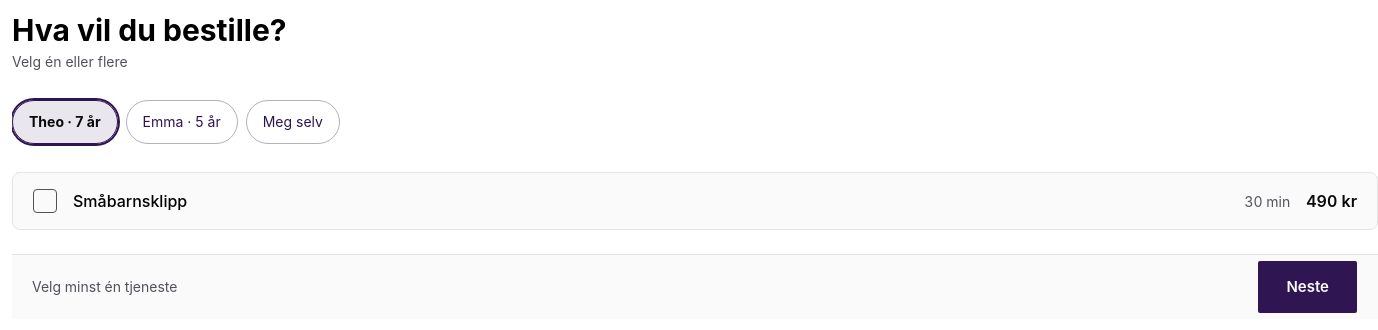
Test: ServiceScreen — multi-select (`selection`) › for a family › keeps every children’s group off a grown-up’s menu
The image size is (1378, 330).
The grown-up's tab (third person).
Click the tab "Meg selv".
click(293, 122)  # box [246,100,340,144]
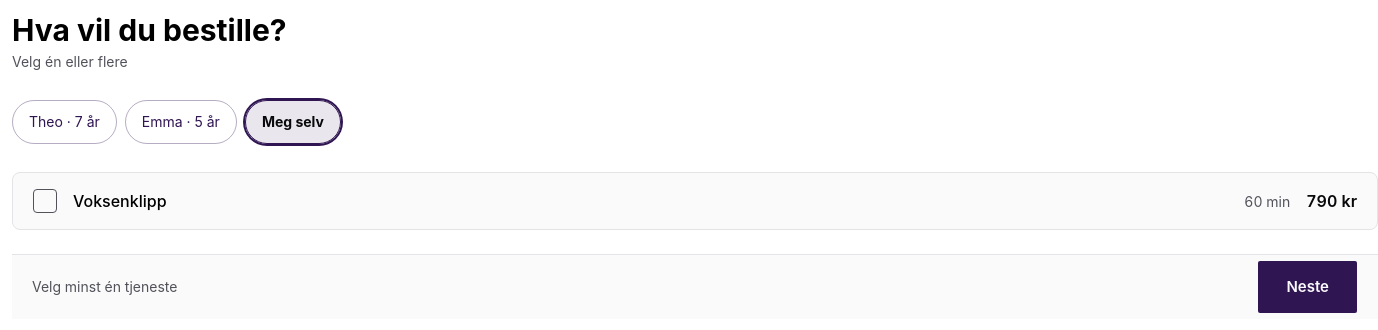
Expected: the checkbox labelled "Voksenklipp 60 min 790 kr" is shown, [12,172,1377,230]
Expected: the text "Småbarnsklipp" is gone
